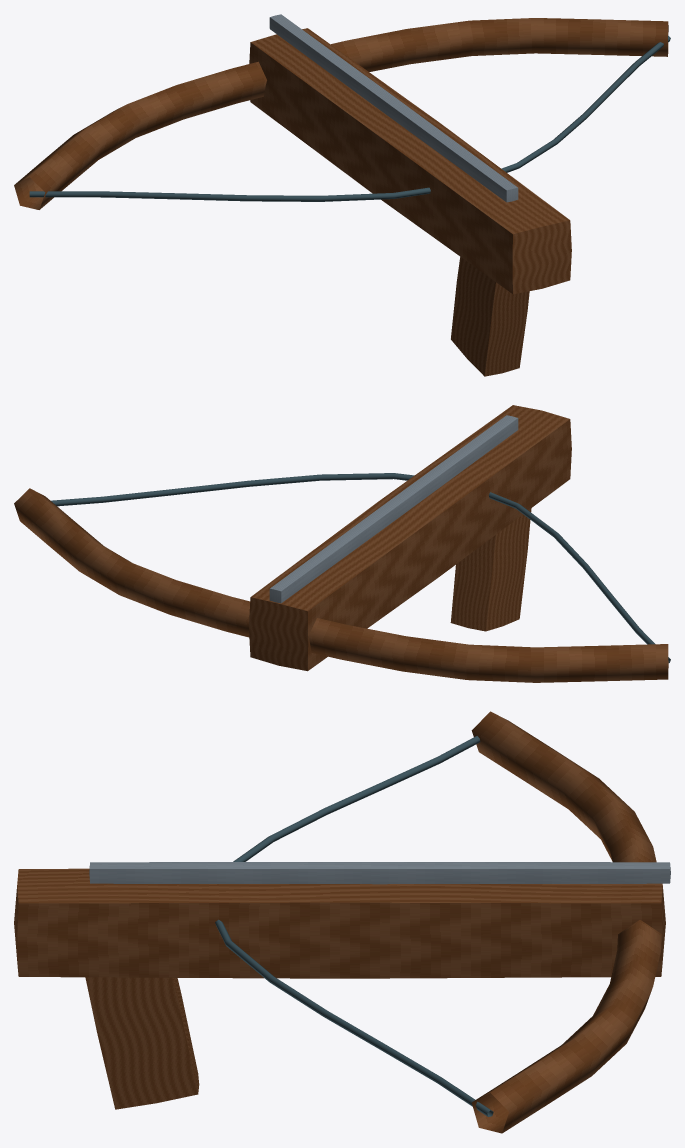
Rendered from crossbow.lod2.glb.
The picture shows the model from 3 angles, top to bottom: view 1: azimuth 30°, elevation 25°; view 2: azimuth 150°, elevation 25°; view 3: azimuth 270°, elevation 25°; orthographic projection. The views are drawn at different scales.
Parts seen in each view (by area): view 1: wood.0, wood.2, wood.1, steel.4, cloth.3; view 2: wood.0, wood.2, wood.1, steel.4, cloth.3; view 3: wood.0, wood.2, steel.4, wood.1, cloth.3.
Boxes of the visible parts, x1=… form: wood.0: x1=249, y1=28, x2=571, y2=294; wood.2: x1=14, y1=18, x2=668, y2=209; wood.1: x1=451, y1=257, x2=529, y2=376; steel.4: x1=269, y1=14, x2=518, y2=202; cloth.3: x1=29, y1=35, x2=670, y2=201; wood.0: x1=249, y1=405, x2=571, y2=671; wood.2: x1=14, y1=488, x2=668, y2=682; wood.1: x1=450, y1=508, x2=531, y2=631; steel.4: x1=269, y1=415, x2=518, y2=603; cloth.3: x1=51, y1=473, x2=670, y2=662; wood.0: x1=14, y1=868, x2=665, y2=978; wood.2: x1=471, y1=711, x2=661, y2=1133; steel.4: x1=89, y1=862, x2=670, y2=884; wood.1: x1=85, y1=977, x2=199, y2=1109; cloth.3: x1=215, y1=736, x2=493, y2=1116.
Bounding box in the file's own units: 0.9225 × 0.2589 × 0.655.
Materials: 3 (3 with a texture image).
